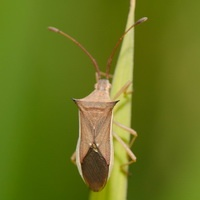insect: (48, 17, 147, 191)
